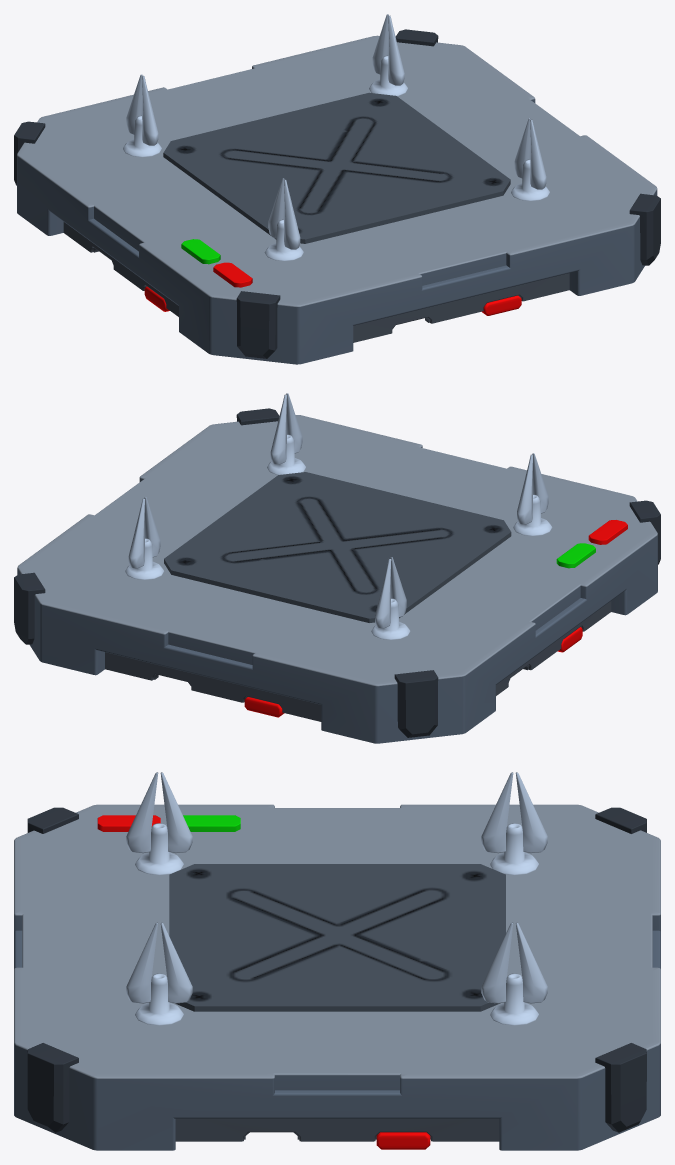
Rendered from fixed_shock_half.fbx.
3 renders of one model, top to bottom at view 1: azimuth 30°, elevation 25°; view 2: azimuth 150°, elevation 25°; view 3: azimuth 270°, elevation 25°, orthographic. The views are drawn at different scales.
Parts seen in each view (by area): view 1: fixed_shock_half; view 2: fixed_shock_half; view 3: fixed_shock_half.
Boxes of the visible parts, x1=… form: fixed_shock_half: x1=14, y1=14, x2=660, y2=364; fixed_shock_half: x1=14, y1=393, x2=660, y2=743; fixed_shock_half: x1=14, y1=772, x2=660, y2=1150.
Bounding box in the file's own units: 8 × 2.37 × 8.
